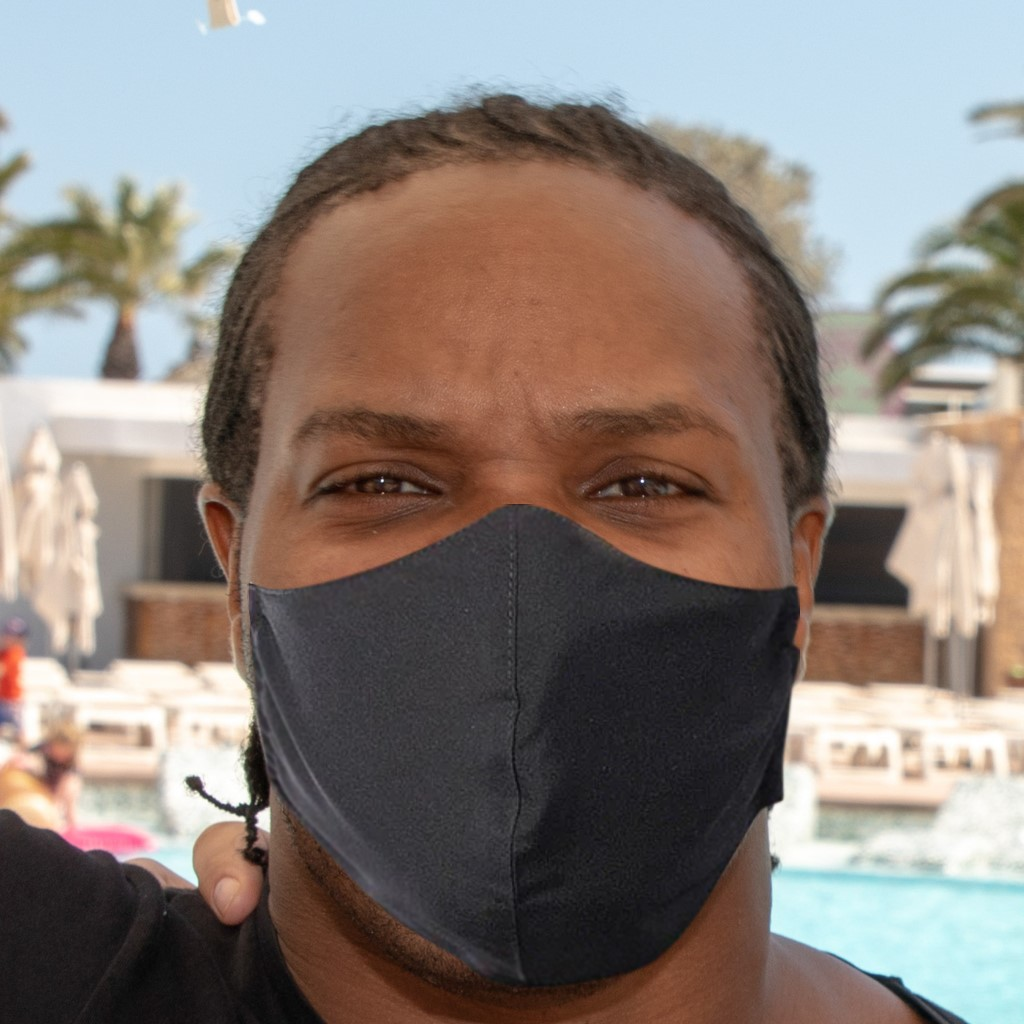con_mascara: (217, 187, 821, 989)
